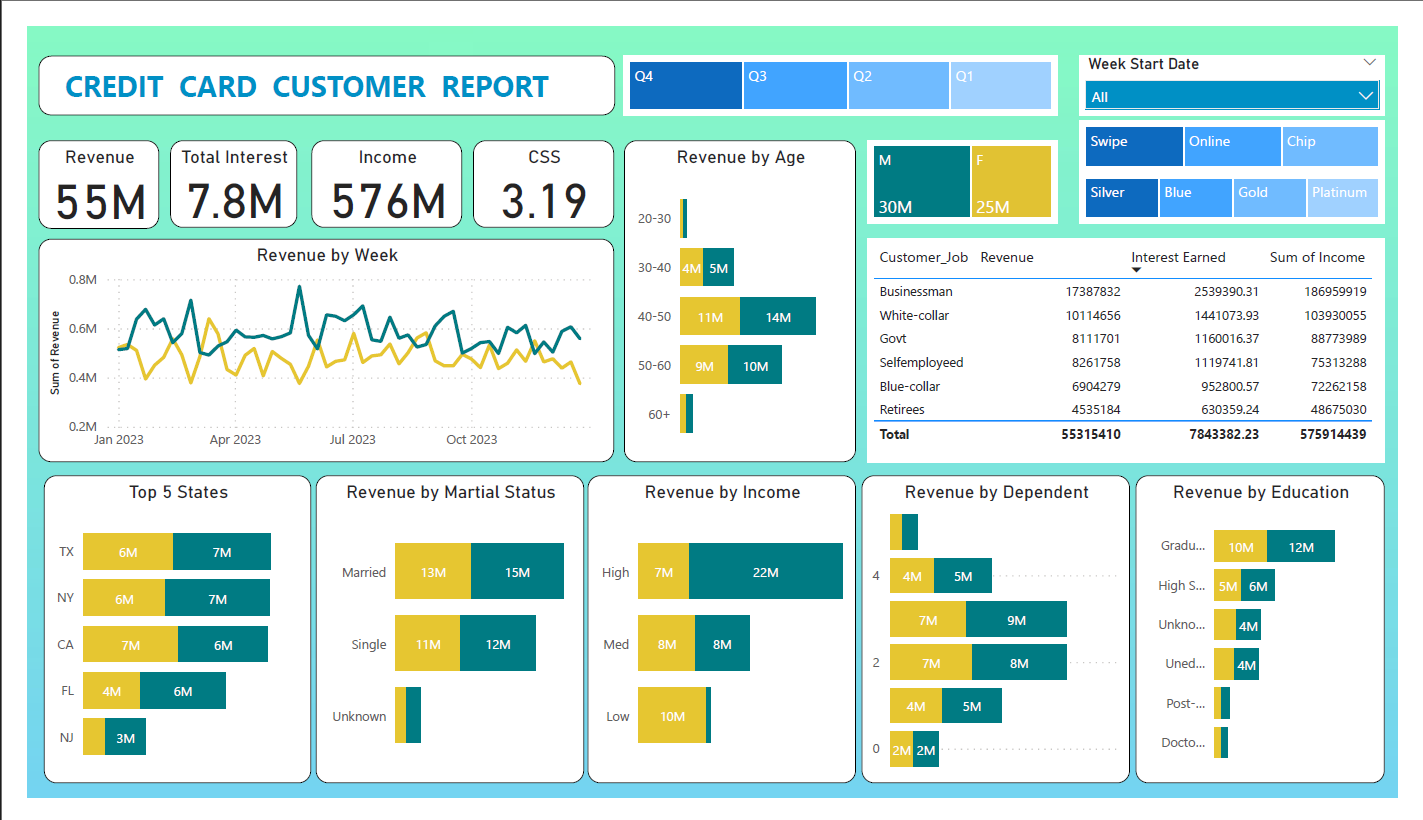

The page's visual inventory and layout, read from the dashboard file:
{"tool":"powerbi","page":{"name":"Customer Report","canvas":[1280,720],"ordinal":1},"visuals":[{"type":"textbox","box":[10,27.1,538.6,55.7],"z":0},{"type":"barChart","title":"Revenue by Income","fields":{"Y":["Sum(credit_card.Revenue)"],"Category":["customer.Income_group"],"Series":["customer.Gender"]},"box":[523.5,418.5,250.6,288.9],"z":1000},{"type":"card","title":"Revenue","fields":{"Values":["Sum(credit_card.Revenue)"]},"box":[9.9,106.2,113.6,82.7],"z":2000},{"type":"card","title":"Total Interest","fields":{"Values":["Sum(credit_card.Interest_Earned)"]},"box":[133.3,106.2,118.5,81.5],"z":3000},{"type":"card","title":"Income","fields":{"Values":["Sum(customer.Income)"]},"box":[265.4,106.2,140.7,81.5],"z":4000},{"type":"card","title":"CSS","fields":{"Values":["Avg(customer.Cust_Satisfaction_Score)"]},"box":[416,106.2,132.1,81.5],"z":5000},{"type":"slicer","fields":{"Values":["credit_card.Week_Start_Date"]},"box":[982.7,27.2,285.2,55.6],"z":6000},{"type":"treemap","fields":{"Group":["credit_card.Qtr"],"Values":["Avg(credit_card.Client_Num)"]},"box":[556.8,27.2,404.9,55.6],"z":7000},{"type":"treemap","fields":{"Group":["credit_card.Card_Category"],"Values":["Avg(credit_card.Client_Num)"]},"box":[982.7,135.8,285.2,48.1],"z":9000},{"type":"tableEx","fields":{"Values":["customer.Customer_Job","Sum(credit_card.Revenue)","Sum(credit_card.Interest_Earned)","Sum(customer.Income)"]},"box":[785.2,197.5,482.7,209.9],"z":11000},{"type":"lineChart","title":"Revenue by Week","fields":{"Y":["Sum(credit_card.Revenue)"],"Series":["customer.Gender"],"Category":["credit_card.Week_Start_Date.Variation.Date Hierarchy.Year","credit_card.Week_Start_Date.Variation.Date Hierarchy.Month","credit_card.Week_Start_Date.Variation.Date Hierarchy.Day"]},"box":[9.9,197.5,538.3,209.9],"z":12000},{"type":"treemap","fields":{"Values":["Sum(credit_card.Revenue)"],"Group":["customer.Gender"]},"box":[785.2,106.2,176.5,77.8],"z":13000},{"type":"barChart","title":"Revenue by Age","fields":{"Y":["Sum(credit_card.Revenue)"],"Category":["customer.Age_group"],"Series":["customer.Gender"]},"box":[556.8,106.2,217.3,301.2],"z":14000},{"type":"barChart","title":"Revenue by Dependent","fields":{"Y":["Sum(credit_card.Revenue)"],"Category":["customer.Dependent_Count"],"Series":["customer.Gender"]},"box":[779,418.5,250.6,288.9],"z":15000},{"type":"barChart","title":"Revenue by Education","fields":{"Y":["Sum(credit_card.Revenue)"],"Category":["customer.Education_Level"],"Series":["customer.Gender"]},"box":[1034.6,418.5,233.3,288.9],"z":16000},{"type":"barChart","title":"Top 5 States","fields":{"Y":["Sum(credit_card.Revenue)"],"Category":["customer.state_cd"],"Series":["customer.Gender"]},"box":[14.8,418.5,250.6,288.9],"z":17000},{"type":"barChart","title":"Revenue by Martial Status","fields":{"Y":["Sum(credit_card.Revenue)"],"Category":["customer.Marital_Status"],"Series":["customer.Gender"]},"box":[269.1,418.5,250.6,288.9],"z":18000},{"type":"treemap","fields":{"Group":["credit_card.Use Chip"],"Values":["Avg(credit_card.Client_Num)"]},"box":[982.7,87.7,285.2,48.1],"z":18001}]}

Visuals, with their boxes in screenshot pixels (x1, y1, x2, y2), scaled from the page's 1280x720 canvas onto the 1423x820 screenshot:
textbox: crop(11, 31, 610, 94)
"Revenue by Income" barChart: crop(582, 477, 861, 806)
"Revenue" card: crop(11, 121, 137, 215)
"Total Interest" card: crop(148, 121, 280, 214)
"Income" card: crop(295, 121, 451, 214)
"CSS" card: crop(462, 121, 609, 214)
slicer - credit_card.Week_Start_Date: crop(1092, 31, 1410, 94)
treemap - credit_card.Qtr x Avg(credit_card.Client_Num): crop(619, 31, 1069, 94)
treemap - credit_card.Card_Category x Avg(credit_card.Client_Num): crop(1092, 155, 1410, 209)
tableEx - customer.Customer_Job x Sum(credit_card.Revenue): crop(873, 225, 1410, 464)
"Revenue by Week" lineChart: crop(11, 225, 609, 464)
treemap - Sum(credit_card.Revenue) x customer.Gender: crop(873, 121, 1069, 210)
"Revenue by Age" barChart: crop(619, 121, 861, 464)
"Revenue by Dependent" barChart: crop(866, 477, 1145, 806)
"Revenue by Education" barChart: crop(1150, 477, 1410, 806)
"Top 5 States" barChart: crop(16, 477, 295, 806)
"Revenue by Martial Status" barChart: crop(299, 477, 578, 806)
treemap - credit_card.Use Chip x Avg(credit_card.Client_Num): crop(1092, 100, 1410, 155)
